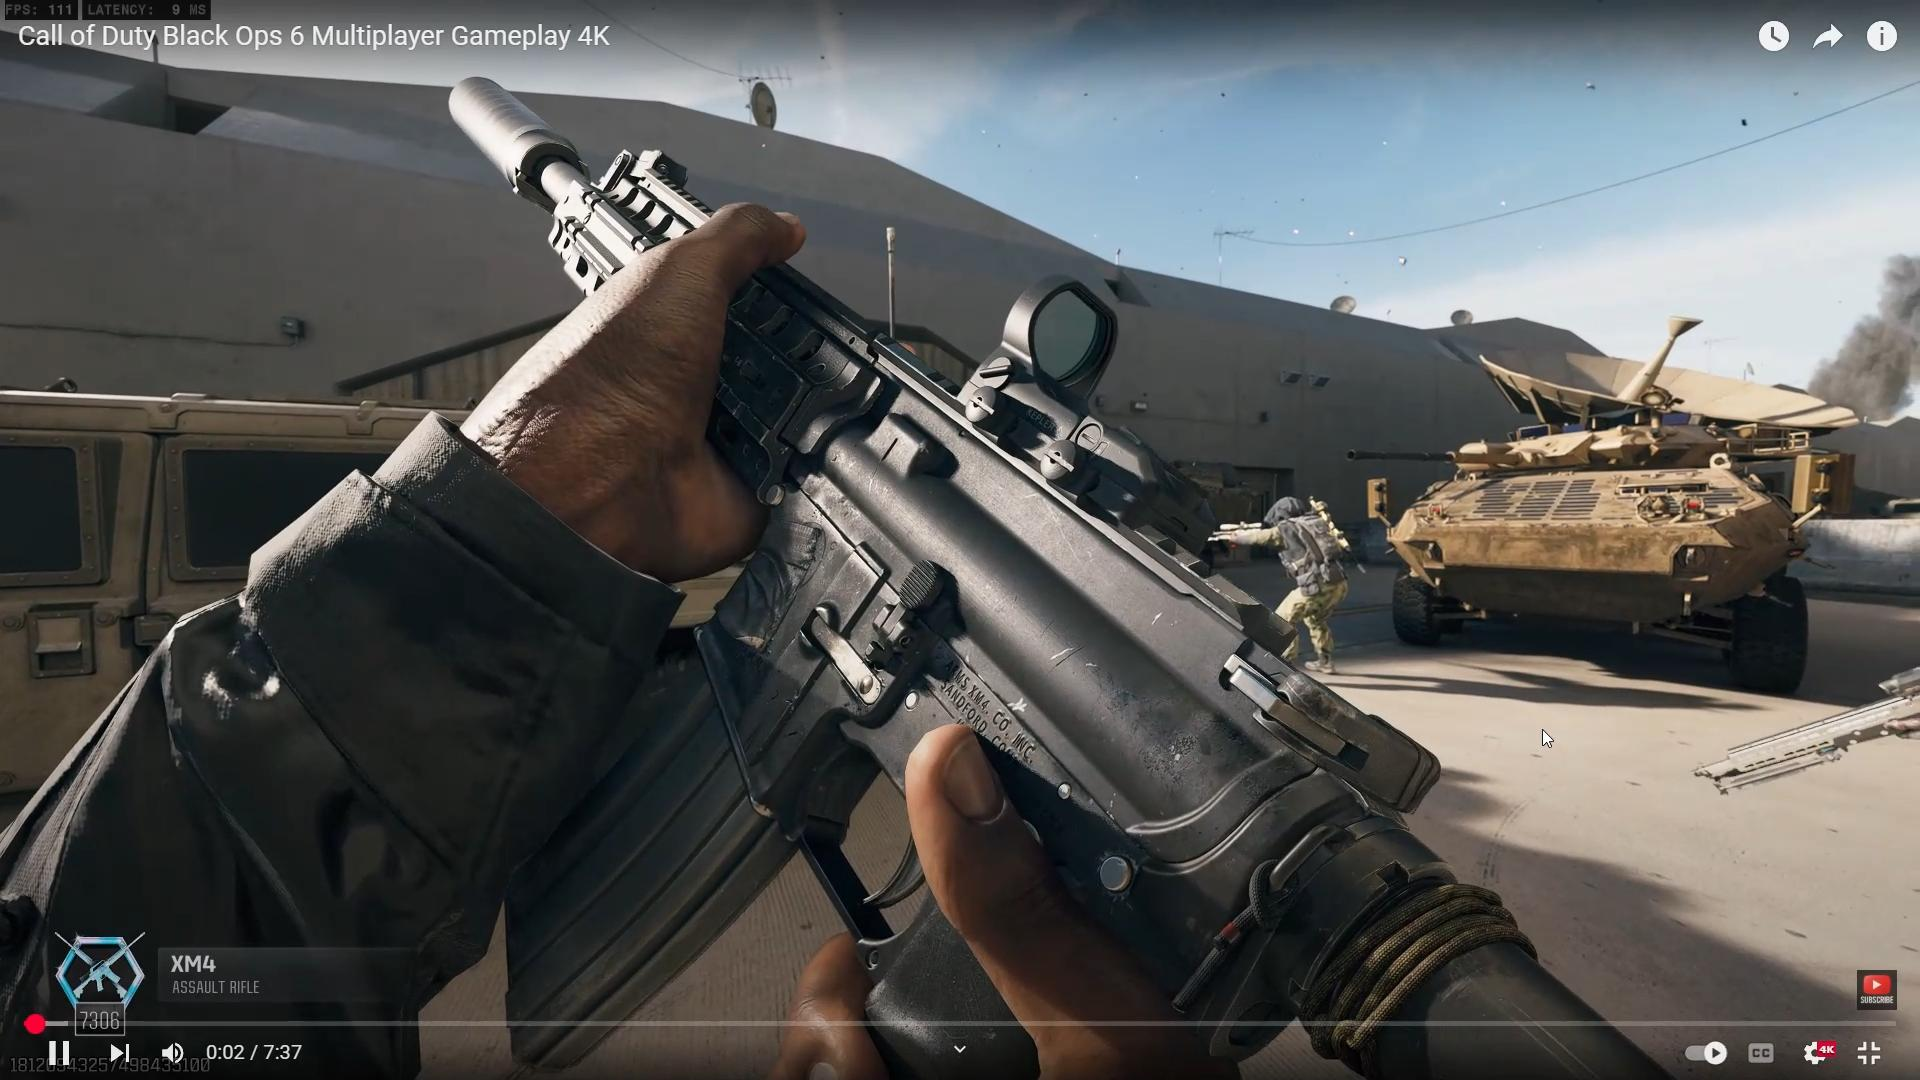Enemy: (1220, 462, 1395, 663)
